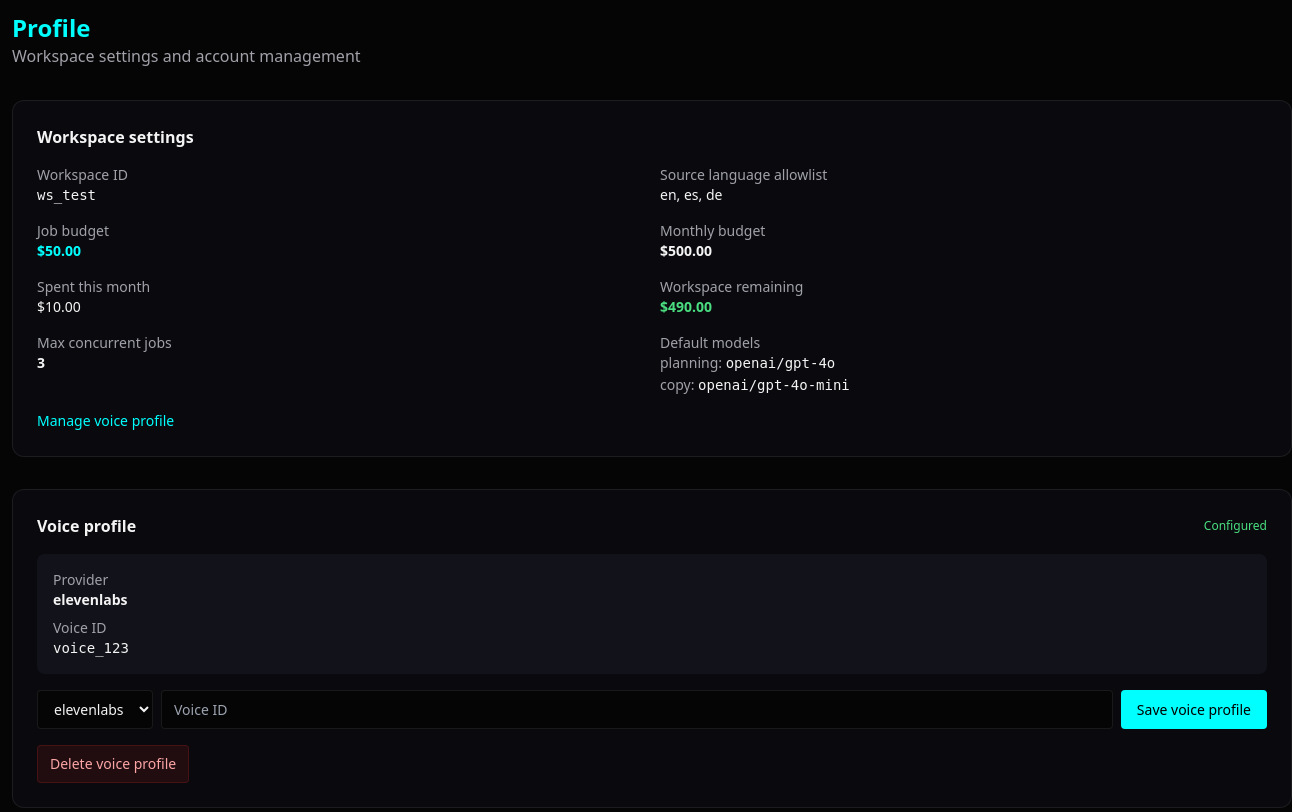
Test: ProfilePage › shows a configured voice profile and can delete it
Expected: the text "voice_123" is shown, x1=53 y1=640 x2=129 y2=656
What coordinates should you click on to do the following:
click the button "Delete voice profile"
I would click on:
 (113, 764)
Its box is x1=37 y1=745 x2=189 y2=783.
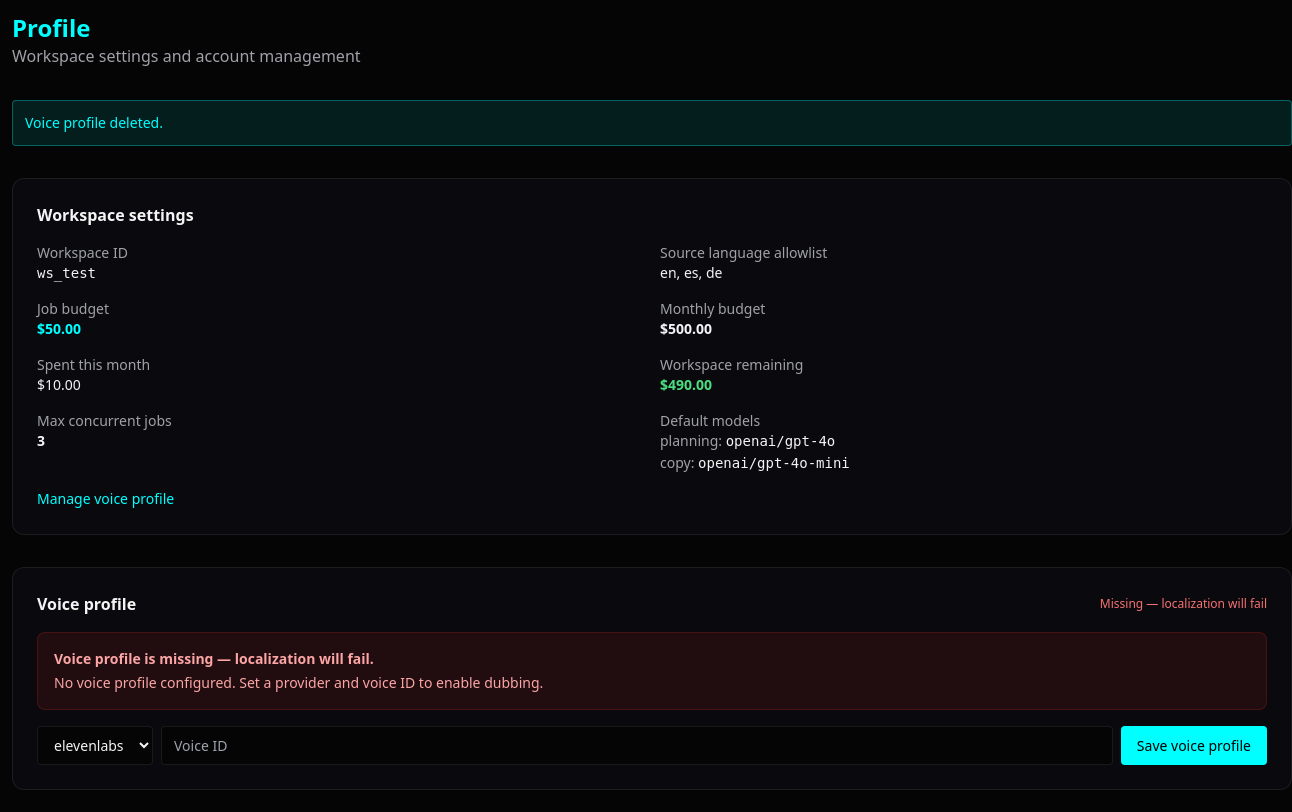
Result: the message "Voice profile deleted." is shown at x1=12 y1=100 x2=1291 y2=146
Result: the text "No voice profile configured" is shown at x1=54 y1=673 x2=543 y2=692
